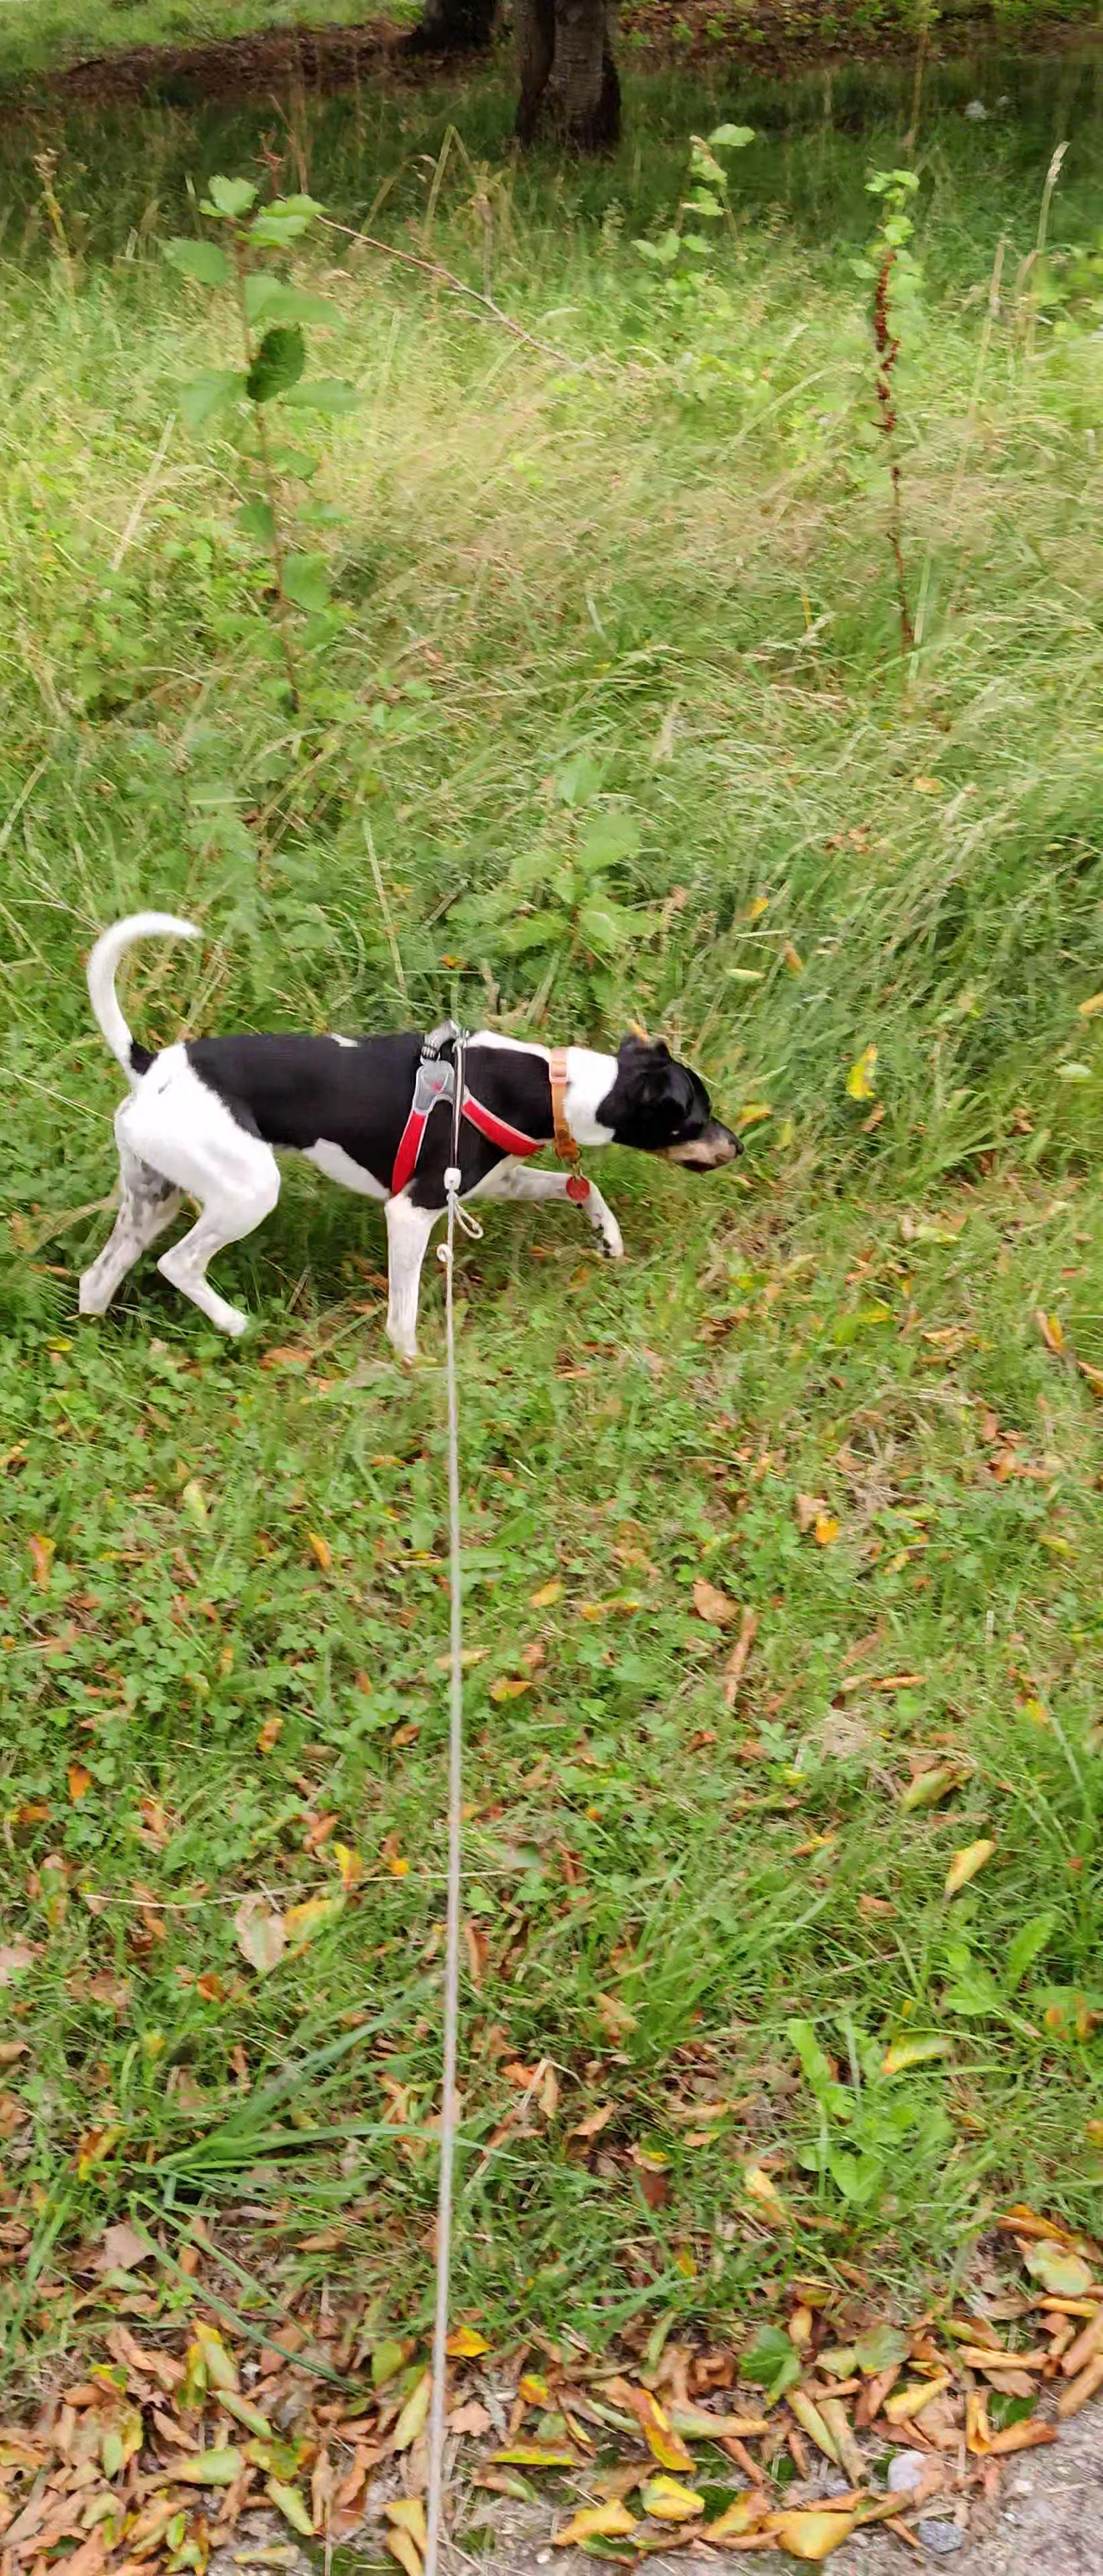Dog: (72, 895, 751, 1365)
